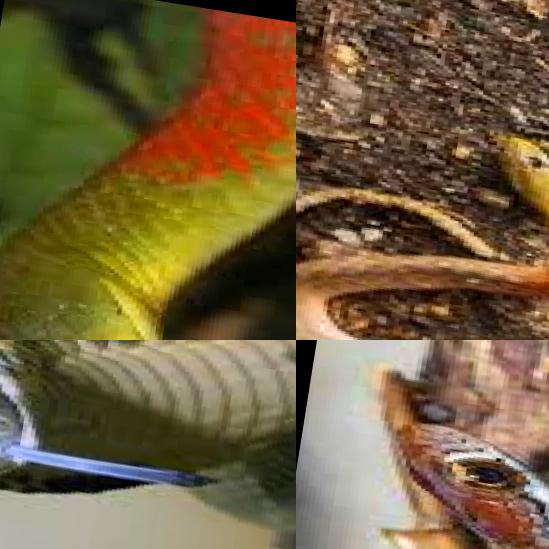snake: (0, 0, 296, 340), (296, 85, 549, 340), (0, 340, 296, 549), (307, 379, 549, 549)
